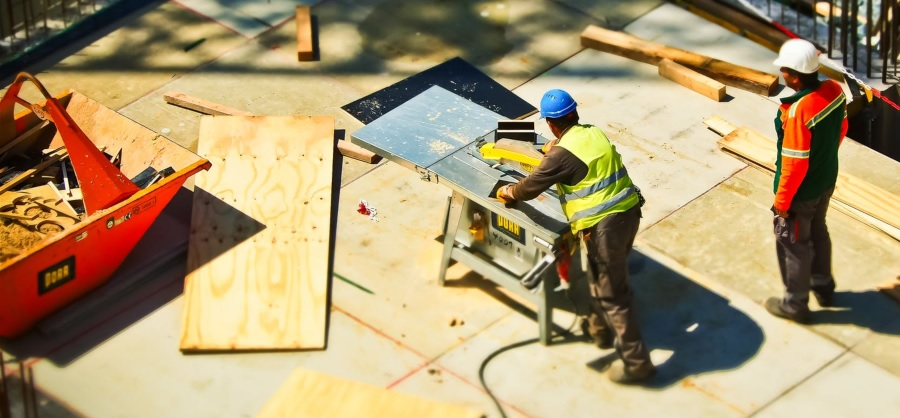Hard Hat: (774, 37, 828, 71), (540, 84, 580, 116)
High Viz: (562, 125, 641, 224)
